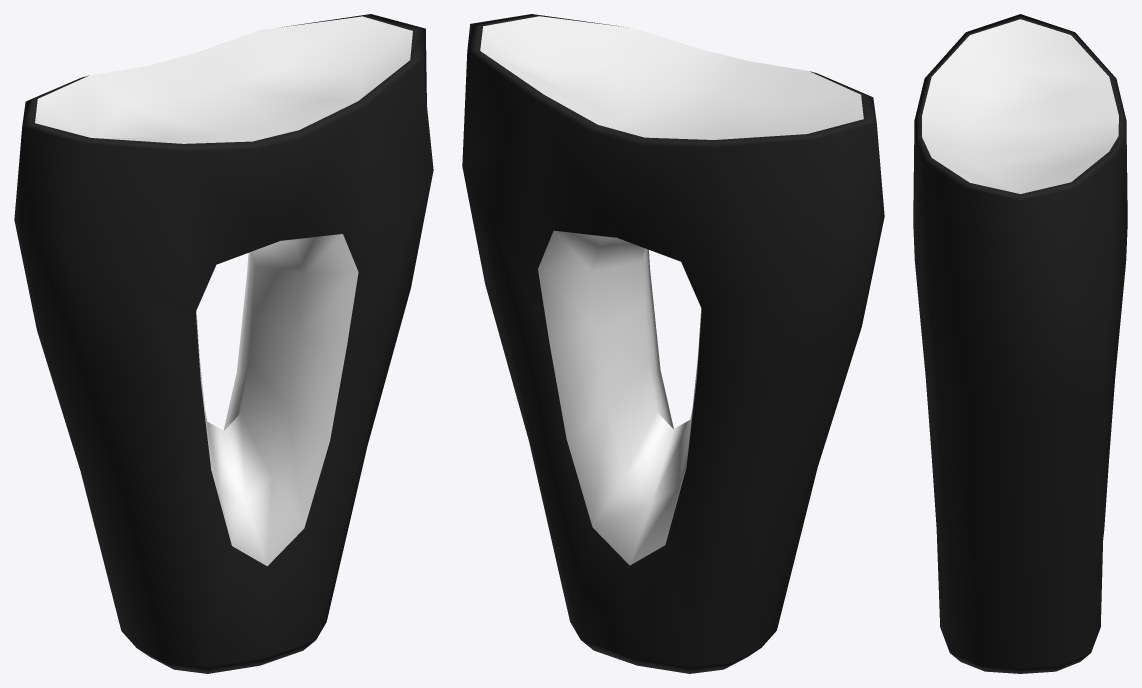
The model's file is prop_017.fbx.
The picture shows the model from 3 angles, left to right: view 1: azimuth 30°, elevation 25°; view 2: azimuth 150°, elevation 25°; view 3: azimuth 270°, elevation 25°; orthographic projection. The views are drawn at different scales.
Visible parts, largest first — view 1: prop_017; view 2: prop_017; view 3: prop_017.
Boxes of the visible parts, x1,y1,x2,y2 form: prop_017: (14, 14, 433, 673); prop_017: (462, 14, 884, 673); prop_017: (913, 14, 1127, 673).
Size of the model in its own units: 26.28 by 12.65 by 34.76.
